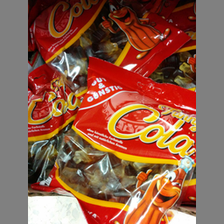candy: (36, 59, 194, 224)
